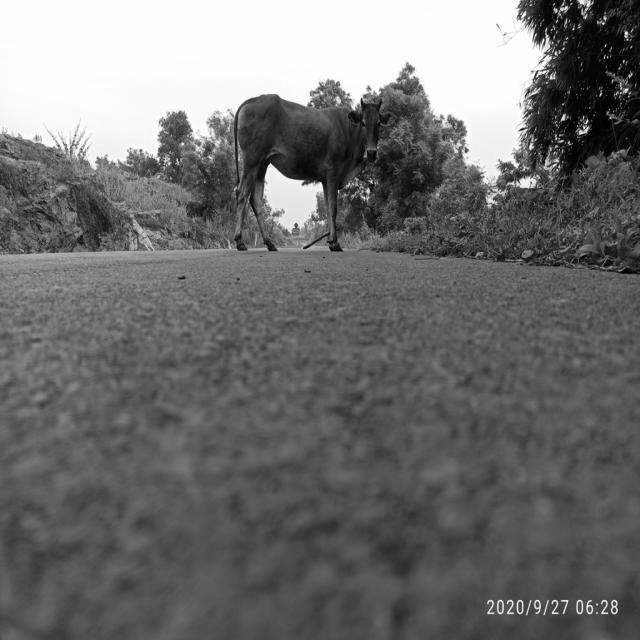cow: (234, 94, 395, 251)
